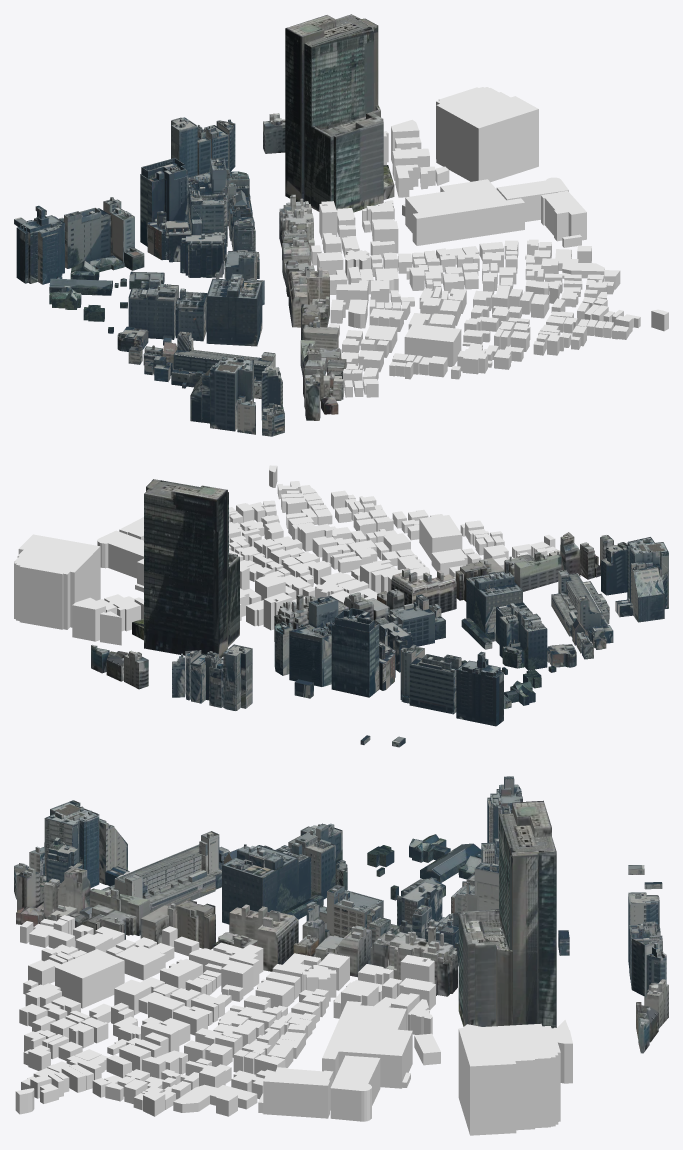
File: building_2_0.glb
The picture shows the model from 3 angles, top to bottom: view 1: azimuth 30°, elevation 25°; view 2: azimuth 150°, elevation 25°; view 3: azimuth 270°, elevation 25°; orthographic projection. The views are drawn at different scales.
Bounding box in the file's own units: 387 × 140 × 363.
Materials: 4 (3 with a texture image).
